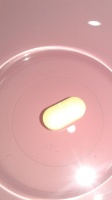Aferin: (41, 94, 87, 132)
